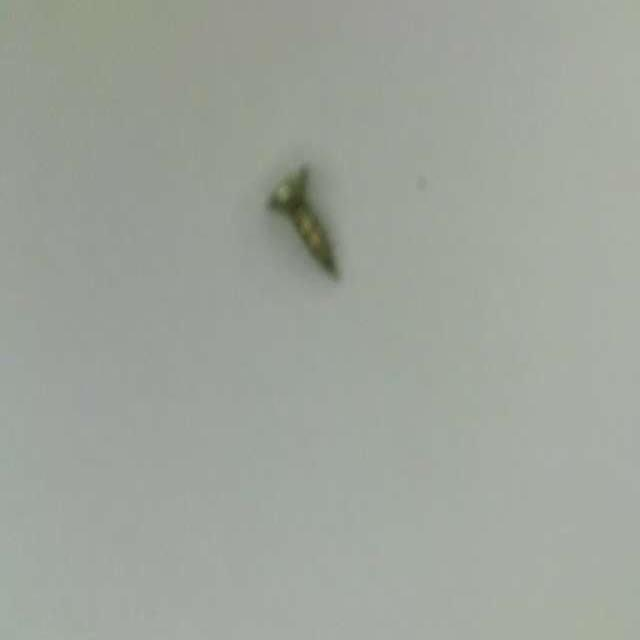Parafuso: (270, 168, 336, 272)
